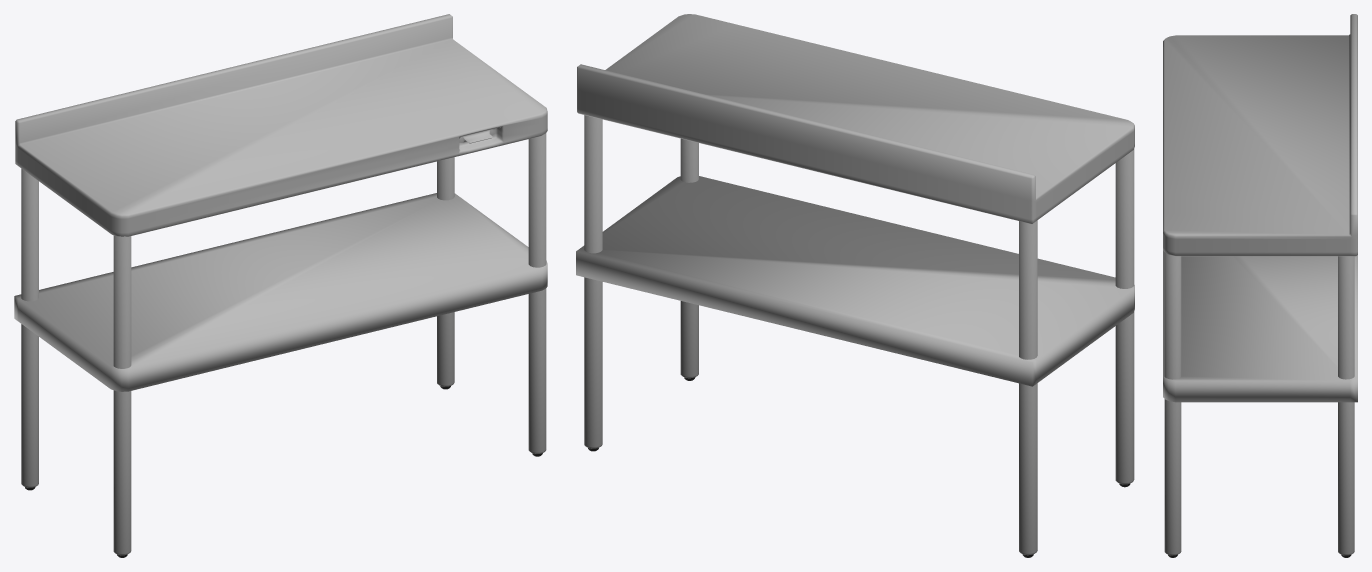
The model's file is kitchenTable.fbx.
3 views of the same model, side by side, from view 1: azimuth 30°, elevation 25°; view 2: azimuth 150°, elevation 25°; view 3: azimuth 270°, elevation 25° (orthographic). The views are drawn at different scales.
Parts seen in each view (by area): view 1: joinedTable; view 2: joinedTable; view 3: joinedTable.
Boxes of the visible parts, x1=… form: joinedTable: x1=14, y1=14, x2=547, y2=557; joinedTable: x1=576, y1=14, x2=1134, y2=557; joinedTable: x1=1163, y1=14, x2=1357, y2=557.
Bounding box in the file's own units: 730 × 589 × 299.
Materials: 6 (4 with a texture image).
